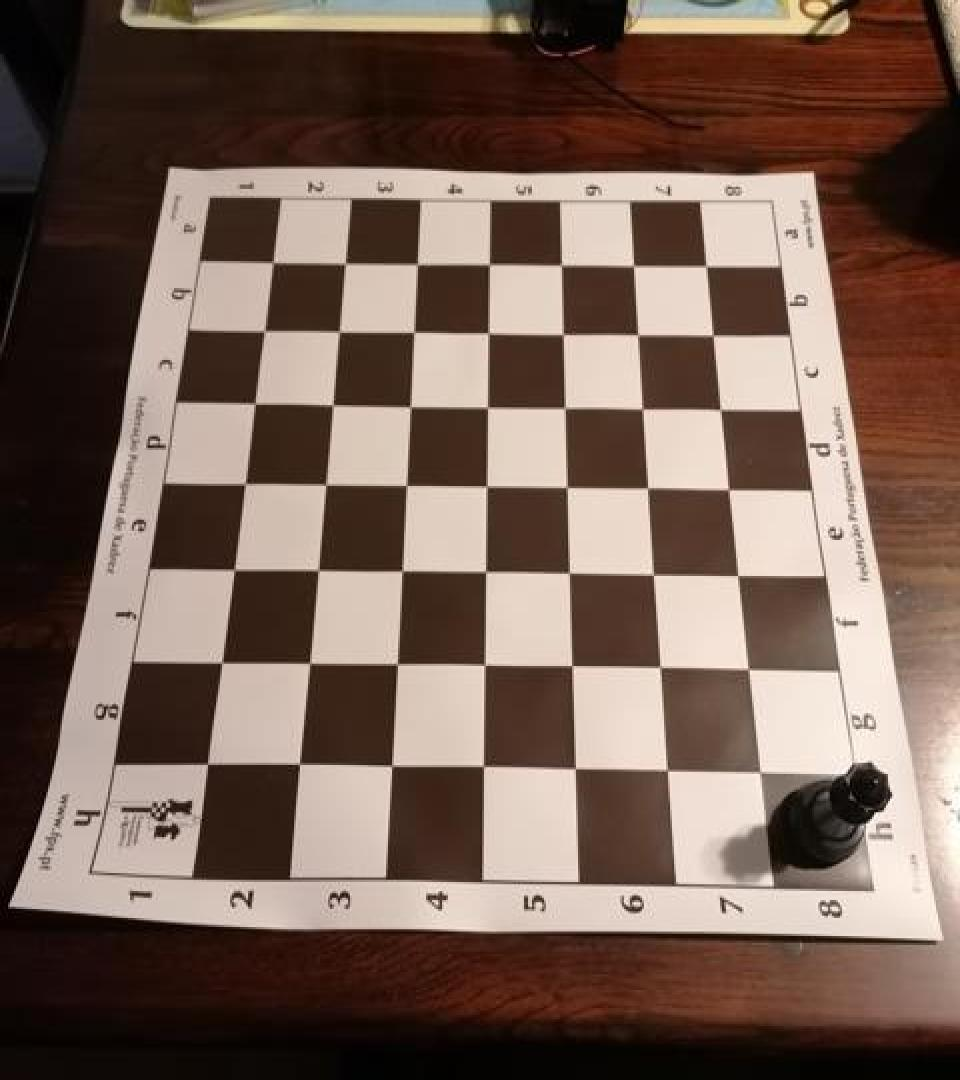xcorner: (554, 552, 586, 589), (214, 545, 246, 582), (467, 644, 499, 681), (187, 742, 219, 779), (691, 246, 723, 282), (618, 246, 650, 282), (545, 245, 577, 281), (472, 244, 504, 280), (400, 243, 432, 279), (328, 242, 360, 278), (255, 242, 287, 278), (699, 315, 731, 351), (623, 314, 655, 350), (547, 313, 579, 349), (471, 312, 503, 348), (396, 310, 428, 346), (321, 310, 353, 346), (246, 308, 278, 344), (707, 388, 739, 424), (628, 387, 660, 423), (549, 386, 581, 422), (471, 385, 503, 421), (314, 382, 346, 418), (236, 382, 268, 418), (716, 468, 748, 504), (634, 467, 666, 503), (552, 466, 584, 502), (470, 464, 502, 500), (388, 462, 420, 498), (307, 461, 339, 497), (225, 460, 257, 496), (726, 556, 758, 592), (640, 554, 672, 590), (469, 550, 501, 586), (383, 549, 415, 585), (298, 548, 330, 584), (737, 650, 769, 686), (647, 649, 679, 685), (557, 647, 589, 683), (378, 644, 410, 680), (289, 641, 321, 677), (201, 639, 233, 675), (749, 755, 781, 791), (654, 752, 686, 788), (560, 750, 592, 786), (466, 748, 498, 784), (373, 746, 405, 782), (280, 745, 312, 781), (392, 384, 424, 419)
